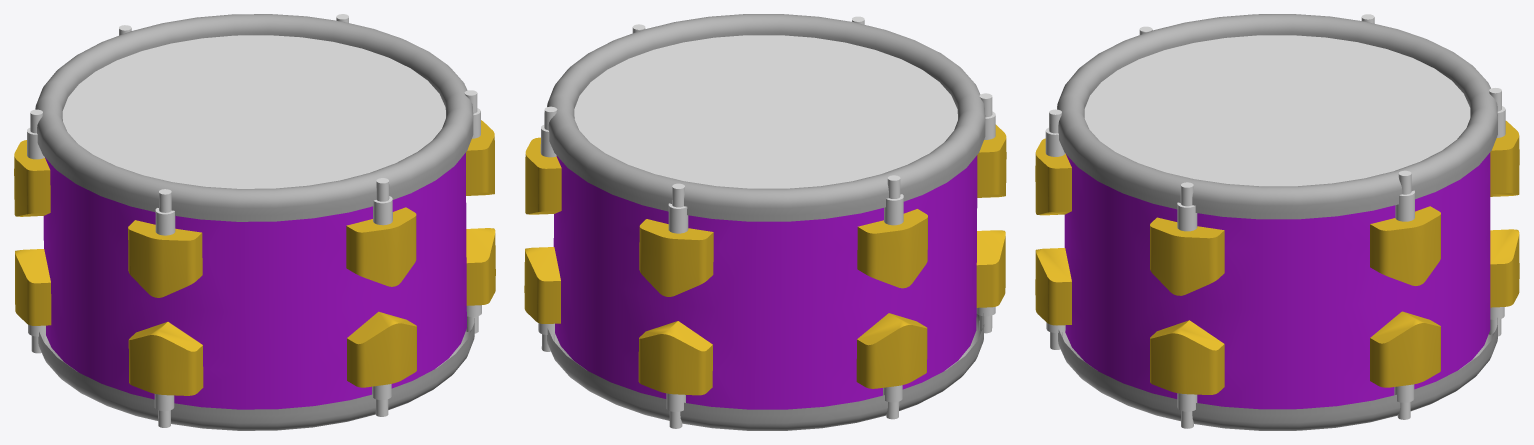
Rendered from tom.fbx.
3 views of the same model, side by side, from view 1: azimuth 30°, elevation 25°; view 2: azimuth 150°, elevation 25°; view 3: azimuth 270°, elevation 25° (orthographic).
Parts seen in each view (by area): view 1: Torus.006; view 2: Torus.006; view 3: Torus.006.
Part boxes in pixels (x1,y1,x2,y2): Torus.006: [14, 14, 495, 430]; Torus.006: [524, 14, 1006, 430]; Torus.006: [1035, 14, 1519, 430].
Bounding box in the file's own units: 34.8 × 20.78 × 37.19.
